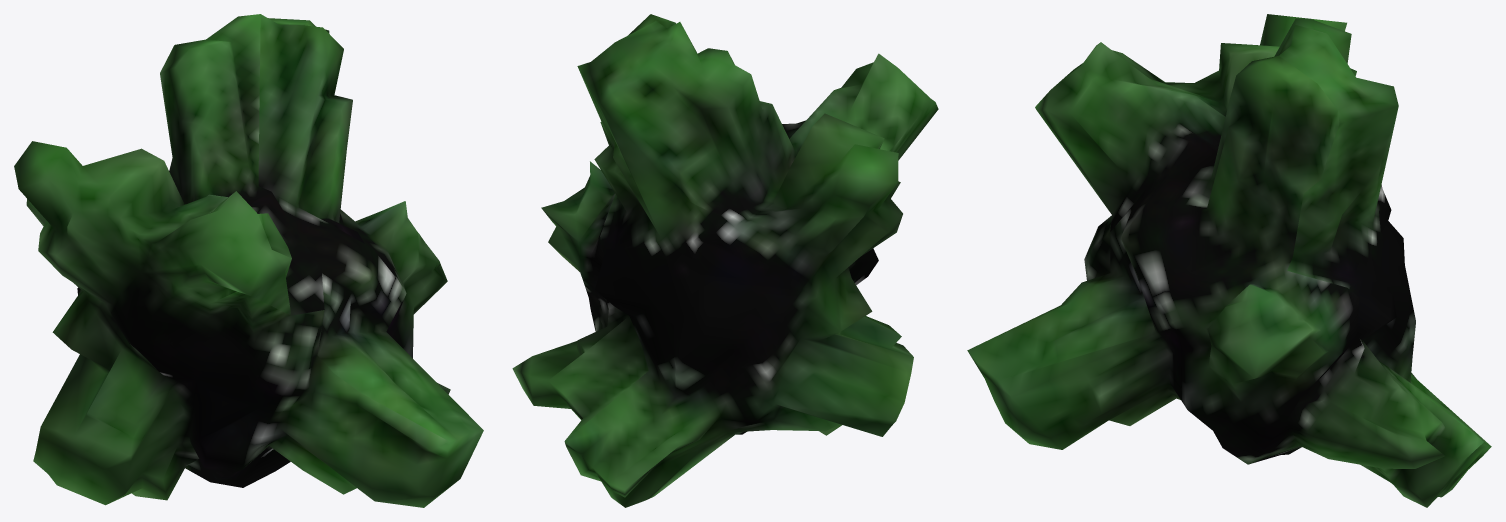
Rendered from isotope-premium-v2.glb.
3 views of the same model, side by side, from view 1: azimuth 30°, elevation 25°; view 2: azimuth 150°, elevation 25°; view 3: azimuth 270°, elevation 25° (orthographic). The views are drawn at different scales.
Parts seen in each view (by area): view 1: isotope; view 2: isotope; view 3: isotope.
Part boxes in pixels (box(x1,y1,x2,y2)): isotope: box(14, 14, 483, 507); isotope: box(512, 14, 938, 507); isotope: box(967, 14, 1491, 507).
Size of the model in its own units: 1.35 by 1.54 by 1.53.
1 material, 1 textured.
